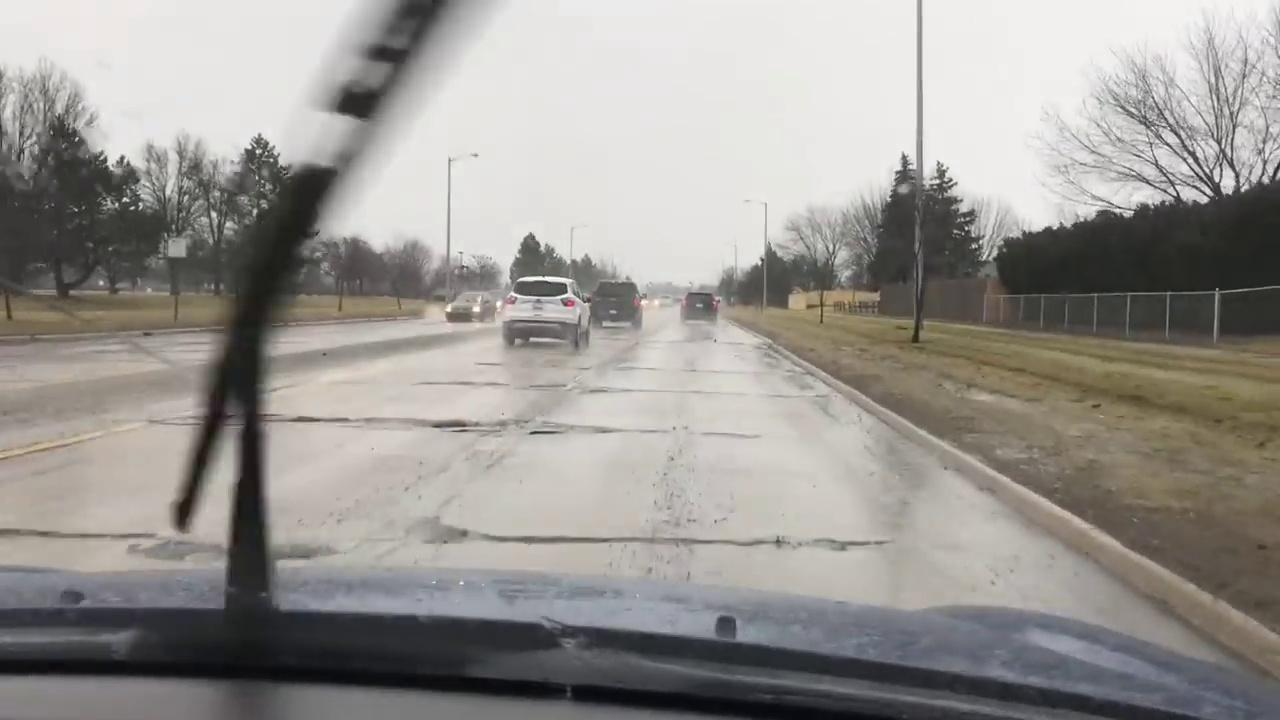pothole: (278, 412, 492, 436), (498, 415, 627, 435)
